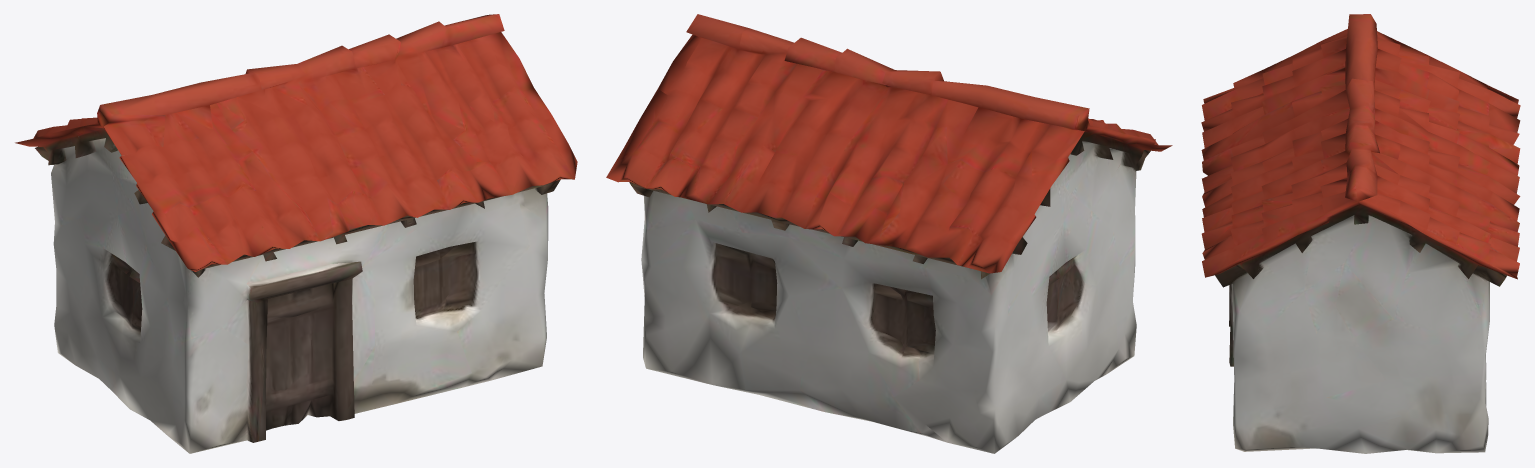
Rendered from house_greek.glb.
3 renders of one model, left to right at view 1: azimuth 30°, elevation 25°; view 2: azimuth 150°, elevation 25°; view 3: azimuth 270°, elevation 25°, orthographic. The views are drawn at different scales.
Visible parts, largest first — view 1: tripo_node_b7c63acf-afde-4790-8c13-b8695822d518; view 2: tripo_node_b7c63acf-afde-4790-8c13-b8695822d518; view 3: tripo_node_b7c63acf-afde-4790-8c13-b8695822d518.
Part boxes in pixels (x1,y1,x2,y2): tripo_node_b7c63acf-afde-4790-8c13-b8695822d518: (15, 14, 577, 453); tripo_node_b7c63acf-afde-4790-8c13-b8695822d518: (606, 14, 1172, 453); tripo_node_b7c63acf-afde-4790-8c13-b8695822d518: (1201, 14, 1520, 453).
Size of the model in its own units: 0.9781 by 0.7079 by 0.7431.
Materials: 1 (1 with a texture image).
